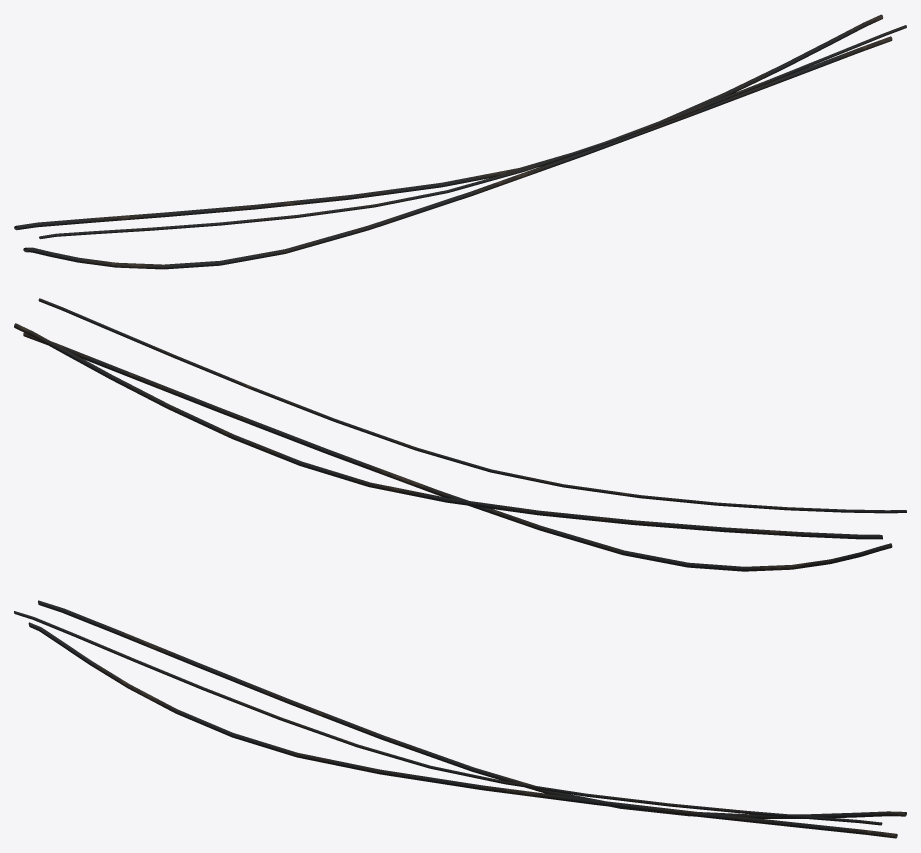
Rendered from WiresHanging_2.fbx.
The picture shows the model from 3 angles, top to bottom: view 1: azimuth 30°, elevation 25°; view 2: azimuth 150°, elevation 25°; view 3: azimuth 330°, elevation 25°; orthographic projection.
Visible parts, largest first — view 1: WiresHanging_2; view 2: WiresHanging_2; view 3: WiresHanging_2.
Part boxes in pixels (box(x1,y1,x2,y2)): WiresHanging_2: box(14, 14, 906, 269); WiresHanging_2: box(14, 298, 906, 571); WiresHanging_2: box(14, 600, 906, 838).
Bounding box in the file's own units: 2408 × 254 × 148.
